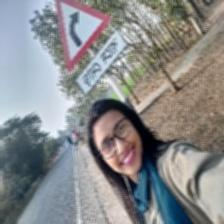Left-Turn: (40, 0, 137, 95)
